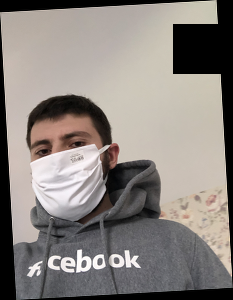with_mask: (31, 131, 107, 222)
